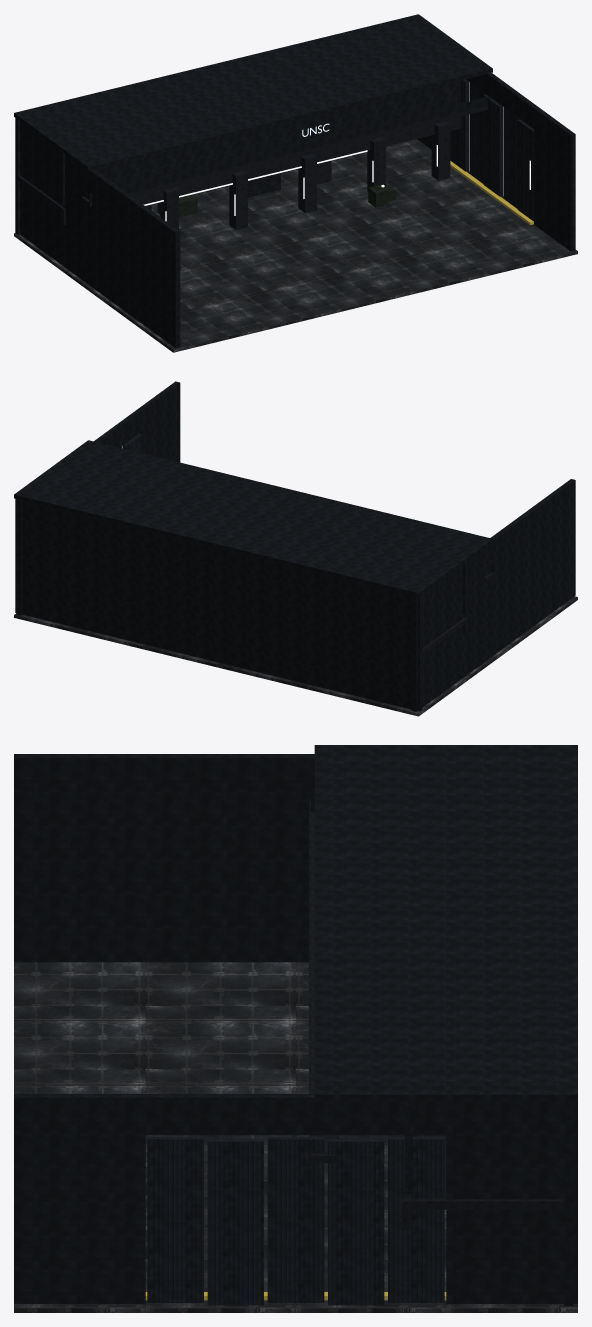
Rendered from lobby_stage.glb.
3 views of the same model, one above another, from view 1: azimuth 30°, elevation 25°; view 2: azimuth 150°, elevation 25°; view 3: azimuth 270°, elevation 25° (orthographic). The views are drawn at different scales.
Visible parts, largest first — view 1: floor_reflect, ceiling_back, wall_left, mezz_face_upper, wall_right_b, catwalk_rail, mezz_fascia, wall_right_a, door_seg_2, catwalk, door_seg_0, door_seg_1 (+10 smaller); view 2: wall_back, ceiling_back, wall_left, floor_reflect, wall_right_b, wall_right_a, wall_right_c; view 3: ceiling_back, wall_left, floor_reflect, wall_right_b, wall_right_c, wall_right_a, door_seg_0, door_seg_1, door_seg_2, door_seg_3, door_seg_4, mezz_deck (+3 smaller).
Boxes of the visible parts, x1,y1,x2,y2 form: floor_reflect: [14, 139, 577, 352]; ceiling_back: [14, 14, 492, 170]; wall_left: [20, 121, 180, 348]; mezz_face_upper: [60, 80, 460, 204]; wall_right_b: [534, 129, 575, 251]; catwalk_rail: [89, 96, 489, 202]; mezz_fascia: [61, 116, 461, 225]; wall_right_a: [466, 72, 575, 156]; door_seg_2: [483, 94, 502, 197]; catwalk: [81, 106, 487, 206]; door_seg_0: [517, 119, 533, 221]; door_seg_1: [503, 107, 519, 208]; wall_back: [15, 499, 422, 711]; ceiling_back: [14, 440, 492, 596]; wall_left: [411, 479, 575, 711]; floor_reflect: [14, 596, 577, 716]; wall_right_b: [140, 384, 180, 462]; wall_right_a: [16, 381, 180, 520]; wall_right_c: [16, 500, 22, 615]; ceiling_back: [314, 745, 577, 1101]; wall_left: [14, 754, 314, 962]; floor_reflect: [14, 962, 577, 1312]; wall_right_b: [14, 1099, 145, 1303]; wall_right_c: [446, 1101, 577, 1303]; wall_right_a: [14, 1094, 577, 1135]; door_seg_0: [147, 1136, 203, 1302]; door_seg_1: [207, 1139, 263, 1305]; door_seg_2: [267, 1136, 324, 1302]; door_seg_3: [328, 1139, 384, 1305]; door_seg_4: [388, 1136, 444, 1302]; mezz_deck: [404, 1135, 563, 1209].
Bounding box in the file's own units: 44 × 12.81 × 30.
9 materials, 5 textured.
